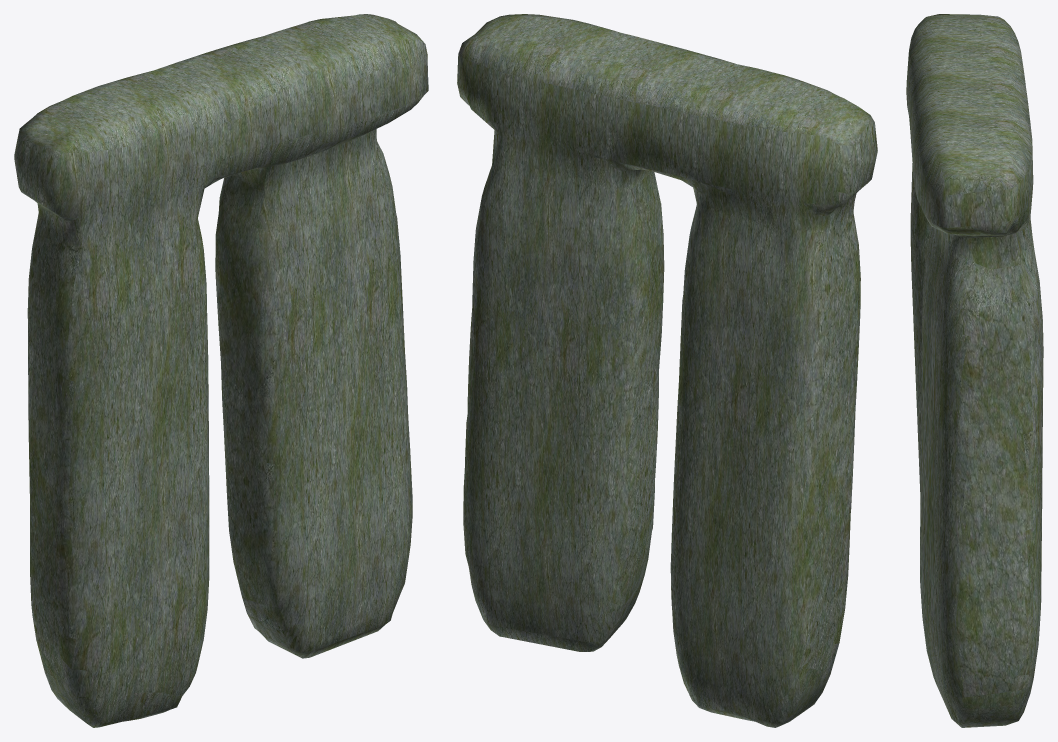
Rendered from StoneHengeArch.glb.
The picture shows the model from 3 angles, left to right: view 1: azimuth 30°, elevation 25°; view 2: azimuth 150°, elevation 25°; view 3: azimuth 270°, elevation 25°; orthographic projection. The views are drawn at different scales.
Visible parts, largest first — view 1: BigHenge; view 2: BigHenge; view 3: BigHenge.
Part boxes in pixels (x1,y1,x2,y2): BigHenge: [14, 14, 428, 727]; BigHenge: [457, 14, 877, 727]; BigHenge: [906, 14, 1043, 727].
Bounding box in the file's own units: 8.07 × 12.44 × 2.54.
Materials: 1 (1 with a texture image).
